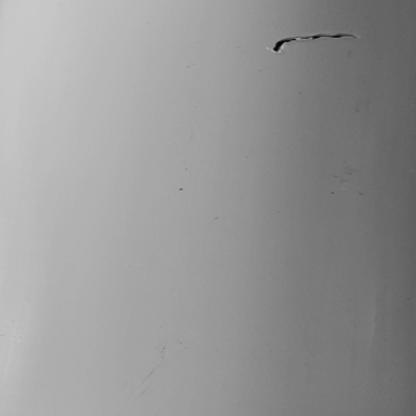fengxi: (269, 32, 357, 56)
